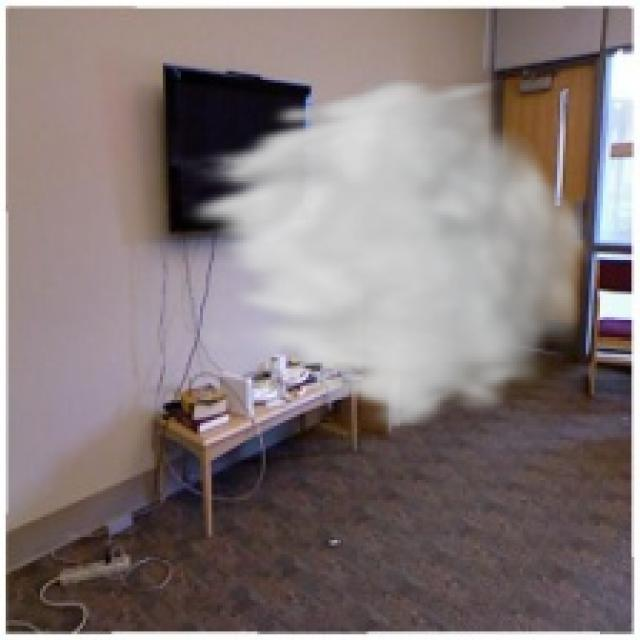smoke: (174, 74, 597, 434)
